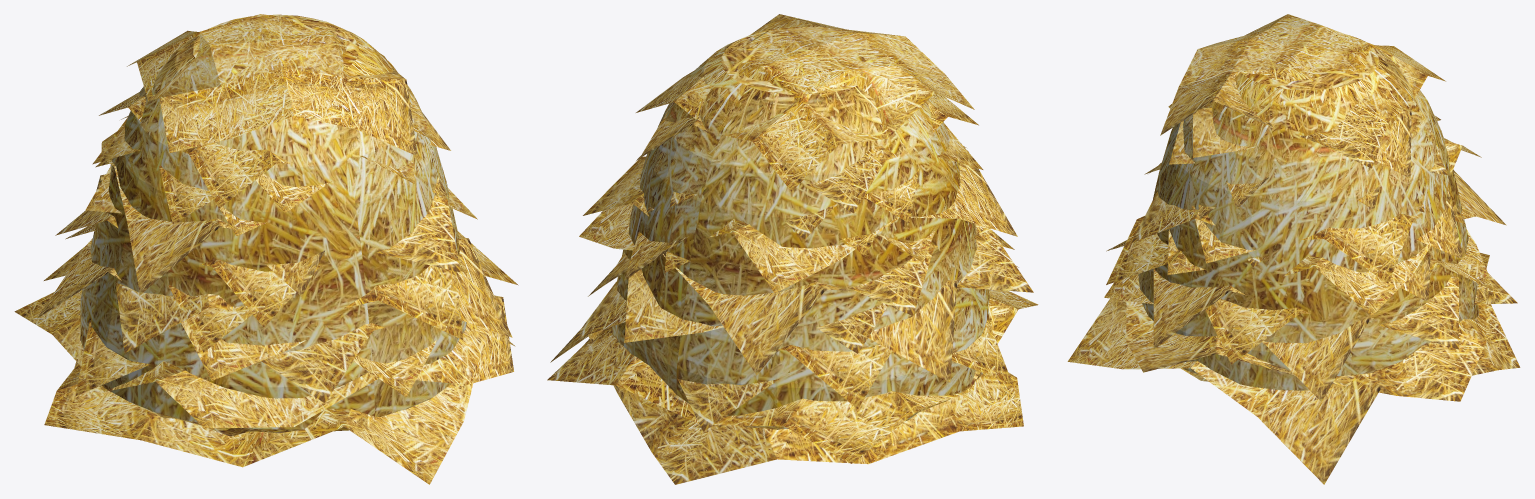
File: Hay BaleTX.fbx
3 renders of one model, left to right at view 1: azimuth 30°, elevation 25°; view 2: azimuth 150°, elevation 25°; view 3: azimuth 270°, elevation 25°, orthographic. The views are drawn at different scales.
Visible parts, largest first — view 1: Hay Bale; view 2: Hay Bale; view 3: Hay Bale.
Boxes of the visible parts, x1=… form: Hay Bale: x1=14, y1=14, x2=518, y2=484; Hay Bale: x1=547, y1=14, x2=1038, y2=484; Hay Bale: x1=1067, y1=14, x2=1520, y2=484.
Size of the model in its own units: 283 by 212 by 265.
